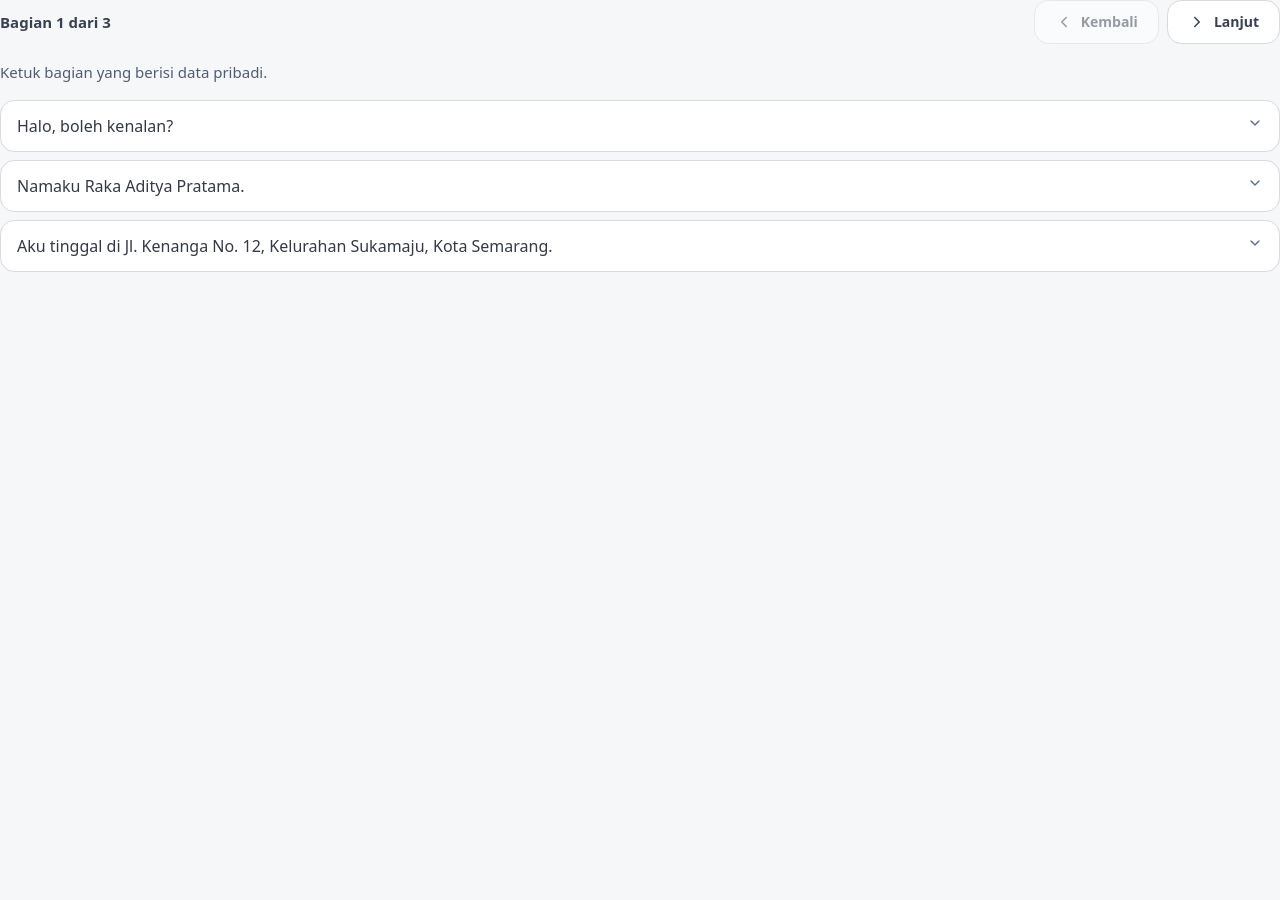
Test case: TokenEditor › berpindah ke bagian berikutnya dan menutup popover yang terbuka
Click the button "Halo, boleh kenalan?" at (95, 126), box [0,100,1279,152]
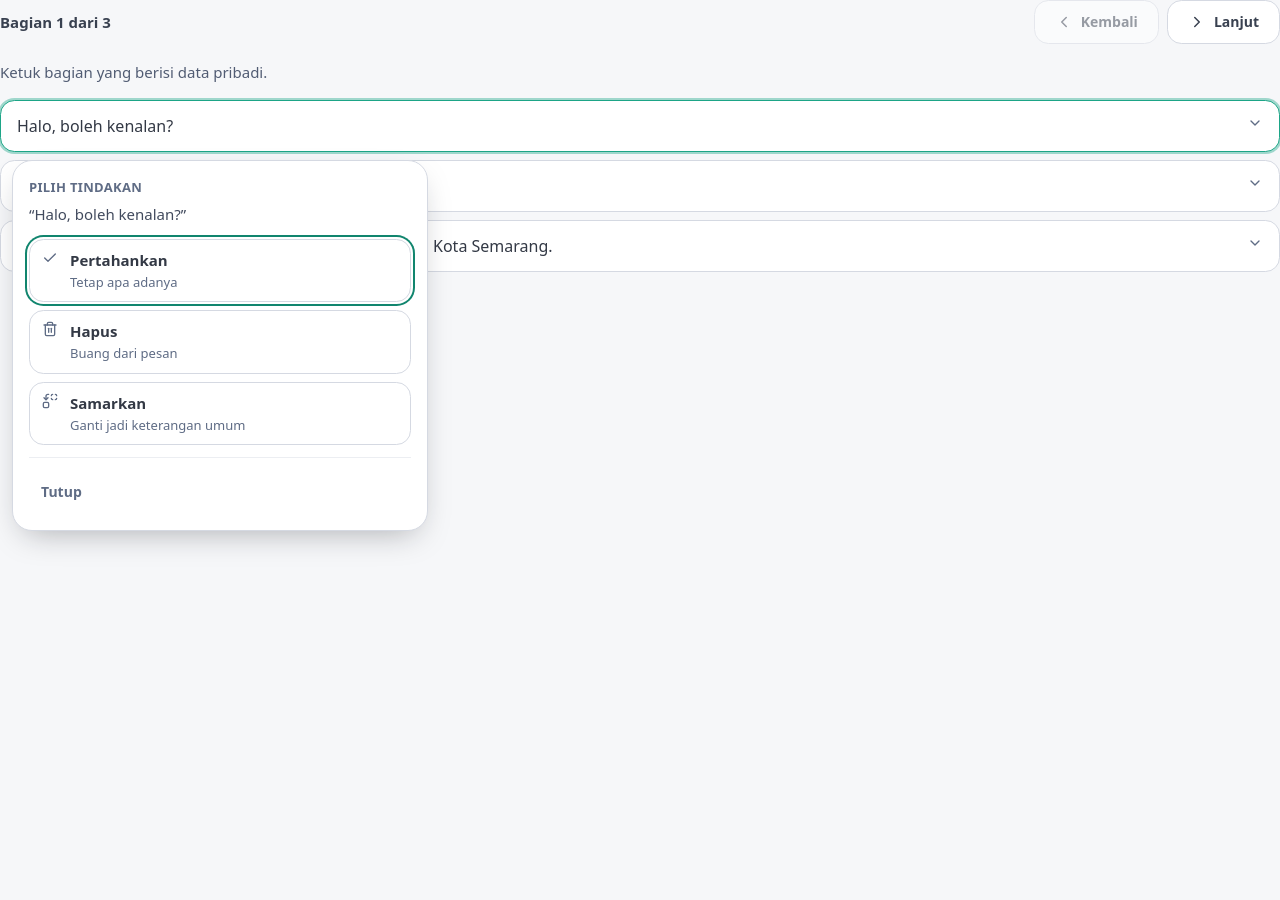
Now the number of dialogs named "Pilihan tindakan" is 1, box [12,160,428,531]
Click the button "Lanjut" at (1223, 22), box [1167,0,1279,44]
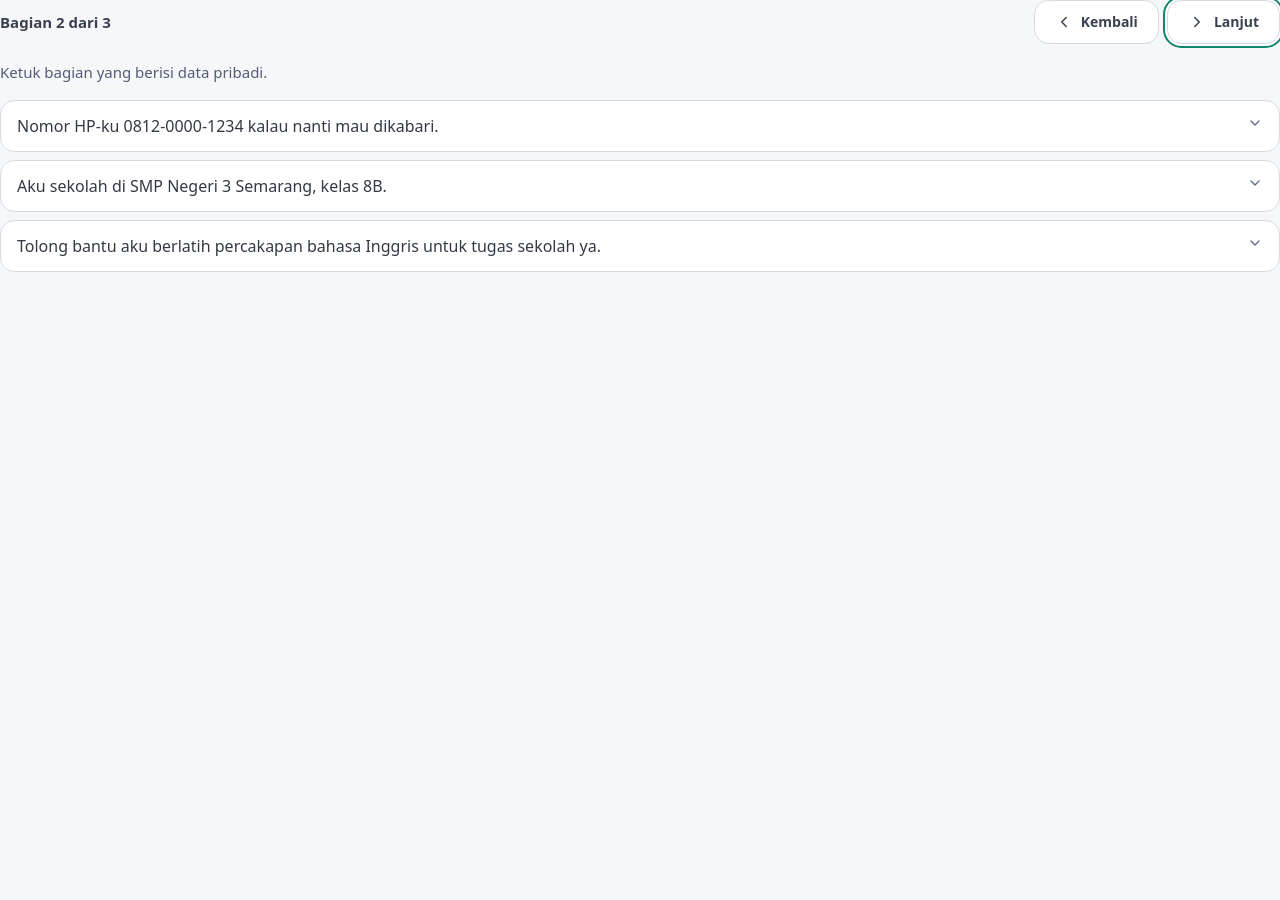
Now the button "Kembali" is enabled, box [1034,0,1159,44]
